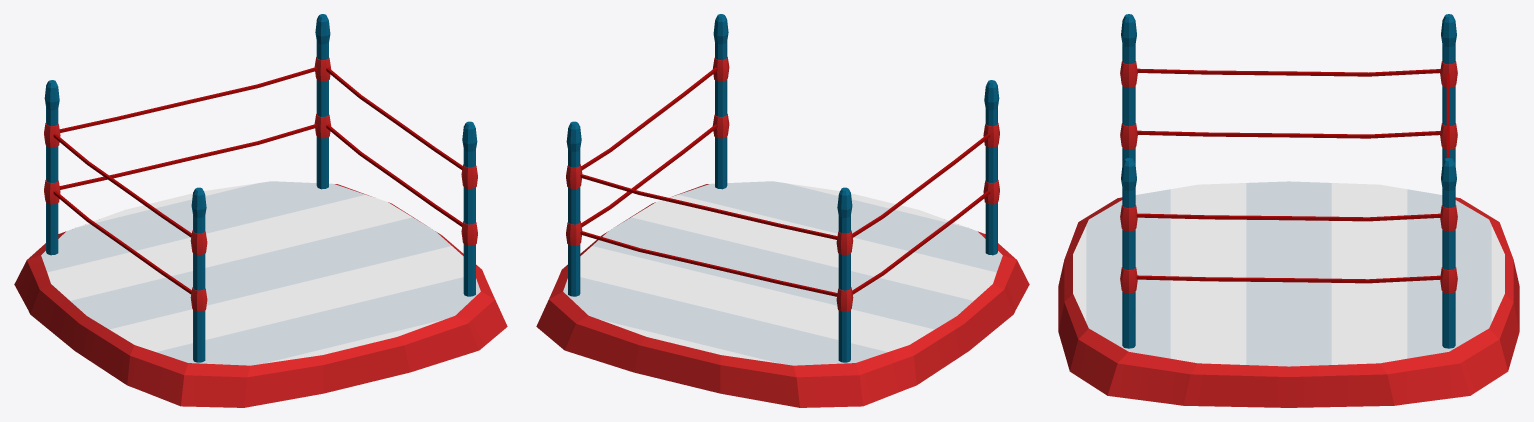
Rendered from Stage.fbx.
3 renders of one model, left to right at view 1: azimuth 30°, elevation 25°; view 2: azimuth 150°, elevation 25°; view 3: azimuth 270°, elevation 25°, orthographic. The views are drawn at different scales.
Parts seen in each view (by area): view 1: Stage; view 2: Stage; view 3: Stage.
Part boxes in pixels (x1,y1,x2,y2): Stage: [14, 14, 507, 407]; Stage: [536, 14, 1029, 407]; Stage: [1058, 14, 1519, 407].
Bounding box in the file's own units: 5.16 × 2.69 × 5.09.
